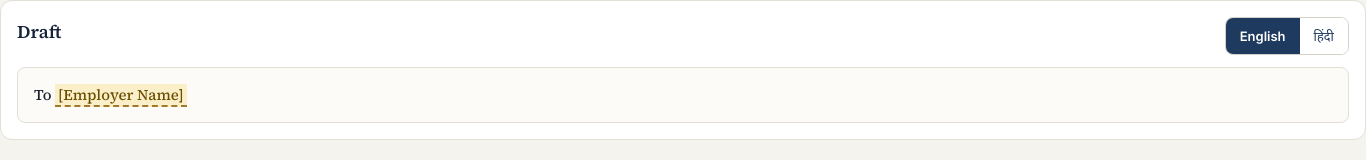
Test: DraftPanel › is read-only in review
Click the tab "हिंदी" at coordinates (1324, 36), box left=1300, top=18, right=1348, bottom=54
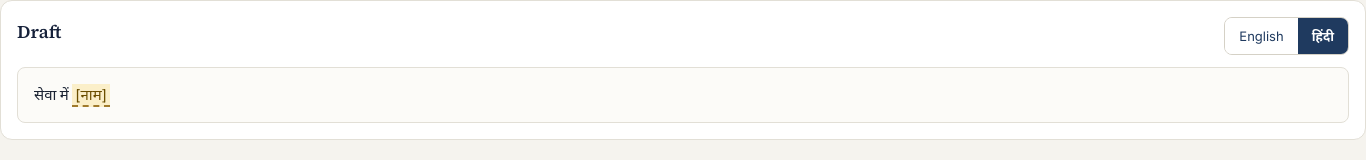
Check: the text "[नाम]" is shown, box left=72, top=84, right=110, bottom=107
